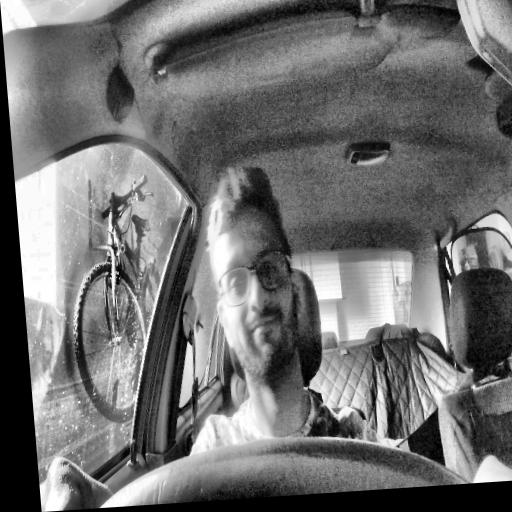awake: (199, 158, 309, 398)
